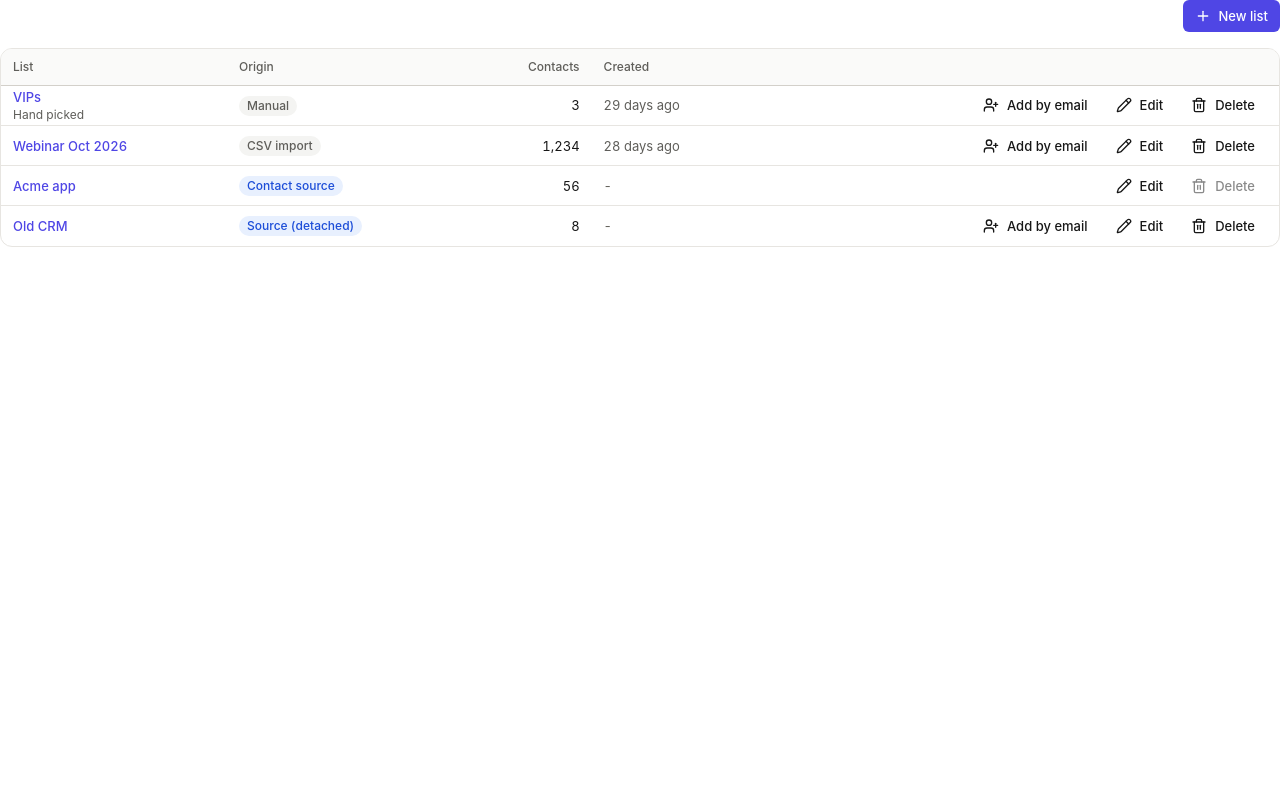
Scenario: ListsTab table › cancel leaves the list alone
Step 1. Click the button with aria-label "Delete VIPs" → click(1223, 105), box [1179,89,1267,121]
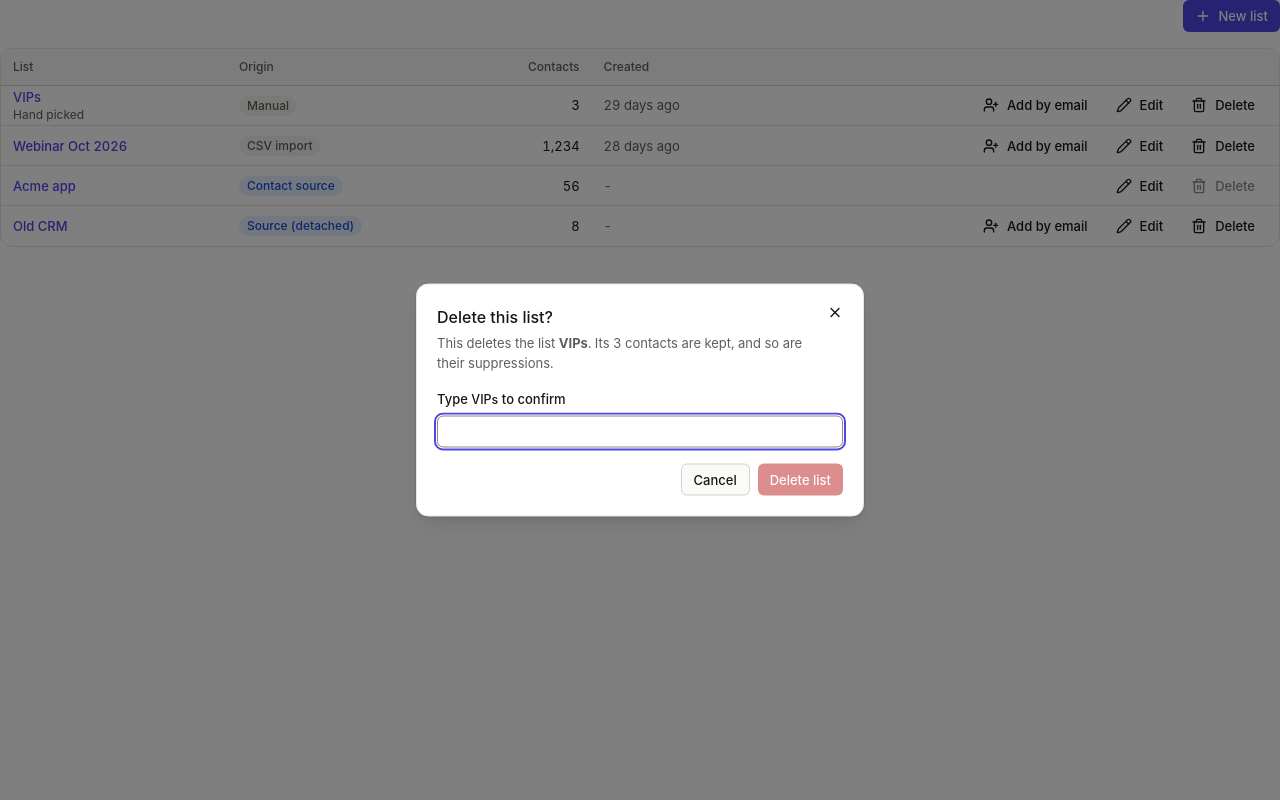
Step 2. Click the button "Cancel" → click(715, 480), box [680,464,750,496]
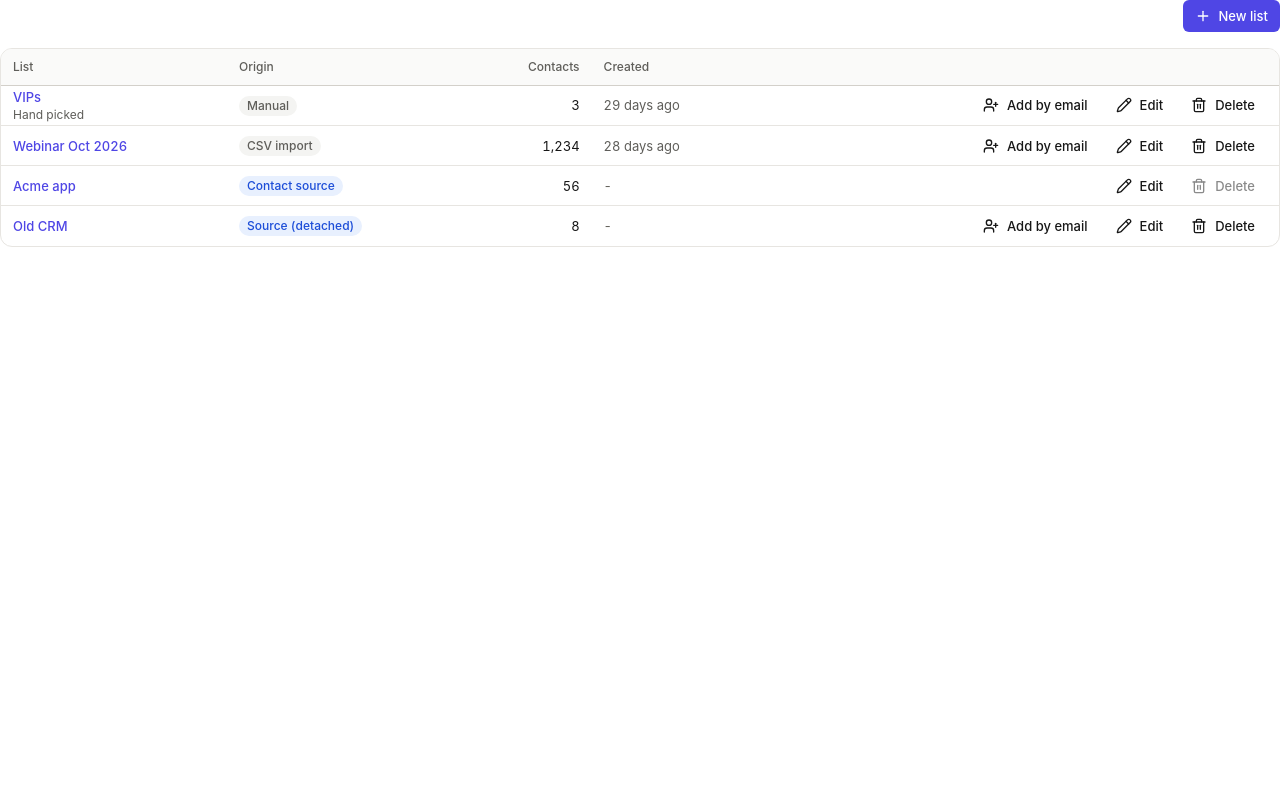
Check: the dialog is gone
